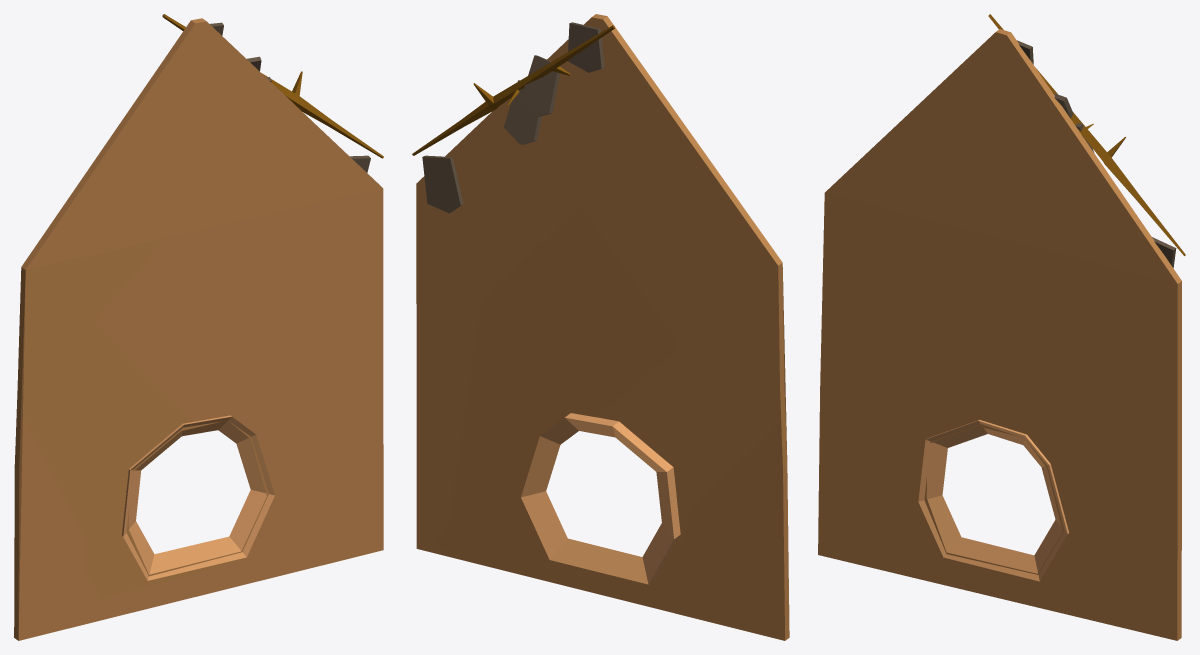
Rendered from BirdHouse_Wall-F.fbx.
The picture shows the model from 3 angles, left to right: view 1: azimuth 30°, elevation 25°; view 2: azimuth 150°, elevation 25°; view 3: azimuth 330°, elevation 25°; orthographic projection. The views are drawn at different scales.
Parts seen in each view (by area): view 1: VorderSeite; view 2: VorderSeite; view 3: VorderSeite.
Boxes of the visible parts, x1=… form: VorderSeite: x1=14, y1=14, x2=383, y2=640; VorderSeite: x1=412, y1=14, x2=789, y2=640; VorderSeite: x1=818, y1=14, x2=1185, y2=640.
Size of the model in its own units: 632 by 944 by 76.84.
